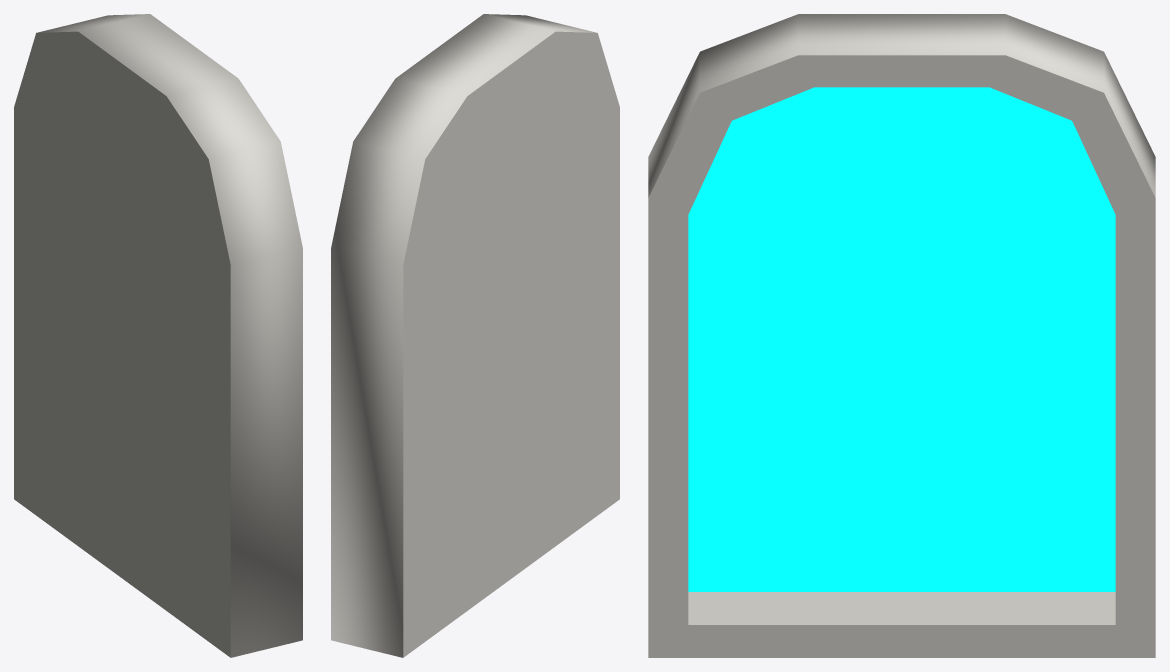
The model's file is endlevel_door.fbx.
The picture shows the model from 3 angles, left to right: view 1: azimuth 30°, elevation 25°; view 2: azimuth 150°, elevation 25°; view 3: azimuth 270°, elevation 25°; orthographic projection. The views are drawn at different scales.
Visible parts, largest first — view 1: Cube; view 2: Cube; view 3: Cube.
Boxes of the visible parts, x1=… form: Cube: x1=14, y1=14, x2=302, y2=657; Cube: x1=331, y1=14, x2=619, y2=657; Cube: x1=648, y1=14, x2=1155, y2=657.
Size of the model in its own units: 38.42 by 262 by 200.
